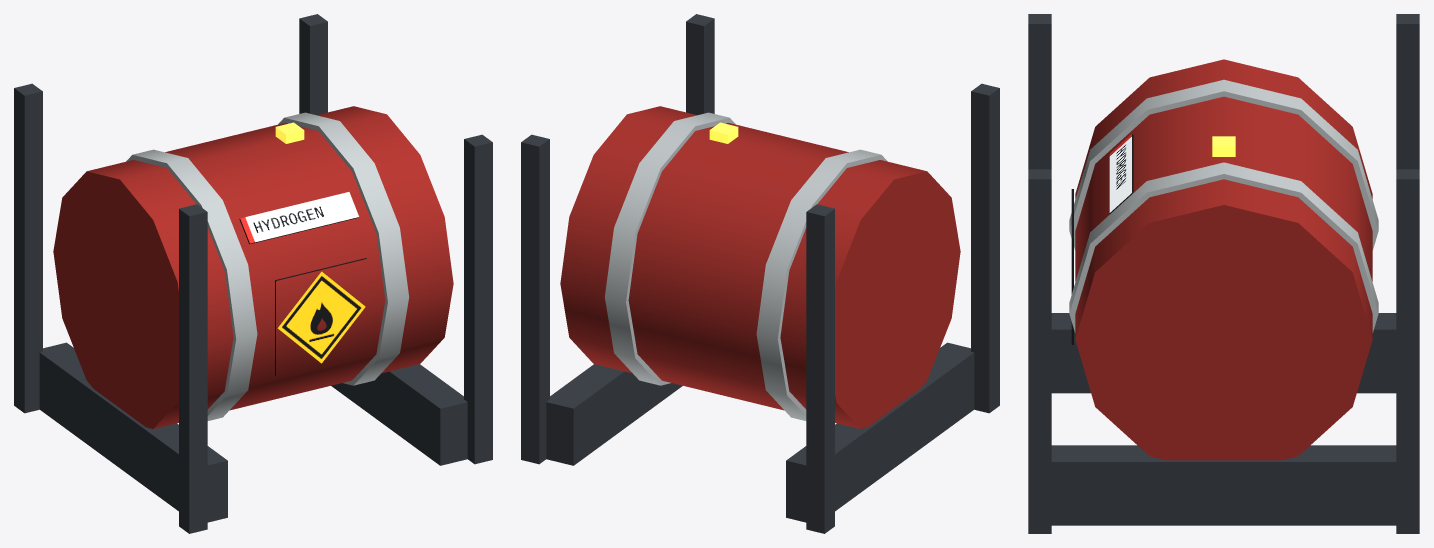
Rendered from cargo_03_cryo.glb.
3 renders of one model, left to right at view 1: azimuth 30°, elevation 25°; view 2: azimuth 150°, elevation 25°; view 3: azimuth 270°, elevation 25°, orthographic. The views are drawn at different scales.
Parts seen in each view (by area): view 1: tank, saddle_1, post_3, post_4, post_1, saddle_2, band_2, band_1, hazard_flame, manifest, post_2; view 2: tank, saddle_1, post_1, post_2, post_3, saddle_2, band_2, band_1, post_4; view 3: tank, saddle_2, post_2, post_4, band_2, band_1, saddle_1, post_1, post_3, manifest, pressure_lamp.
Boxes of the visible parts, bbox=[...] form: tank: bbox=[53, 106, 453, 428]; saddle_1: bbox=[39, 342, 227, 522]; post_3: bbox=[179, 204, 207, 533]; post_4: bbox=[464, 134, 492, 464]; post_1: bbox=[14, 83, 42, 413]; saddle_2: bbox=[331, 364, 467, 465]; band_2: bbox=[278, 112, 409, 385]; band_1: bbox=[126, 149, 257, 420]; hazard_flame: bbox=[275, 258, 366, 375]; manifest: bbox=[239, 192, 358, 244]; post_2: bbox=[299, 14, 327, 115]; tank: bbox=[560, 106, 960, 428]; saddle_1: bbox=[786, 342, 974, 522]; post_1: bbox=[806, 204, 834, 533]; post_2: bbox=[521, 134, 549, 464]; post_3: bbox=[971, 83, 999, 413]; saddle_2: bbox=[546, 364, 682, 465]; band_2: bbox=[604, 112, 735, 385]; band_1: bbox=[756, 149, 887, 420]; post_4: bbox=[686, 14, 714, 115]; tank: bbox=[1075, 59, 1372, 460]; saddle_2: bbox=[1051, 445, 1396, 525]; post_2: bbox=[1396, 169, 1419, 533]; post_4: bbox=[1028, 169, 1051, 533]; band_2: bbox=[1069, 162, 1378, 332]; band_1: bbox=[1069, 79, 1378, 250]; saddle_1: bbox=[1051, 313, 1396, 393]; post_1: bbox=[1396, 14, 1419, 169]; post_3: bbox=[1028, 14, 1051, 169]; manifest: bbox=[1109, 134, 1133, 213]; pressure_lamp: bbox=[1212, 136, 1235, 156].
Bounding box in the file's own units: 1 × 1 × 1.
Materials: 7 (2 with a texture image).
